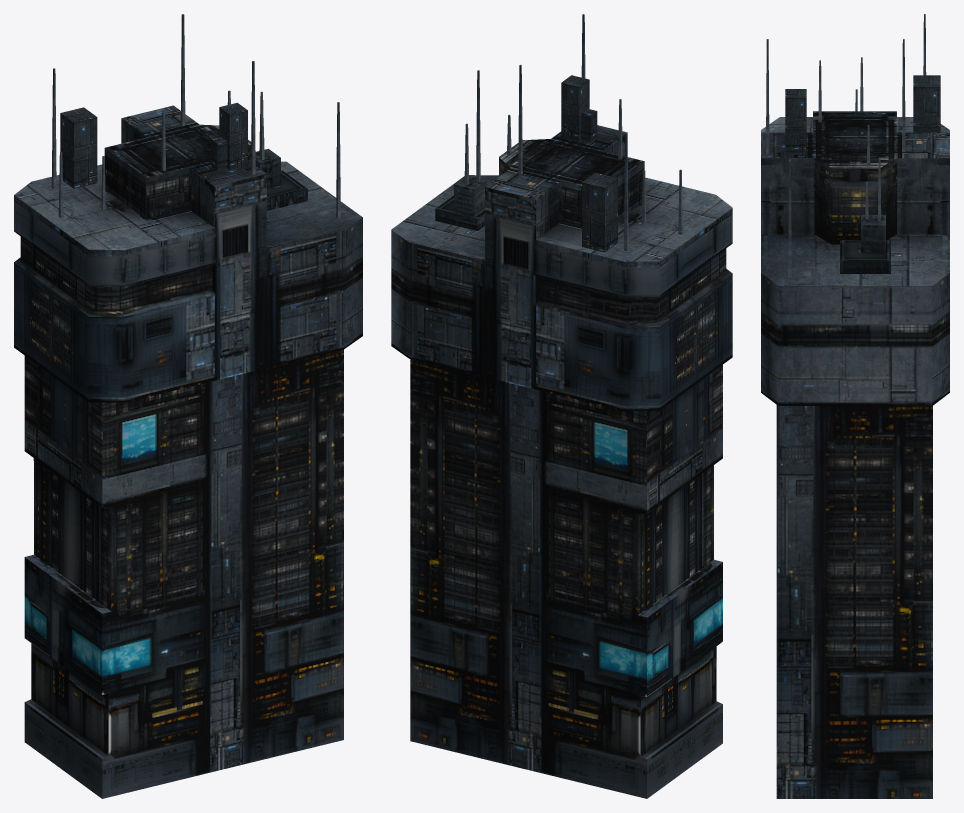
File: CP_Skyscraper_04.fbx
The picture shows the model from 3 angles, left to right: view 1: azimuth 30°, elevation 25°; view 2: azimuth 150°, elevation 25°; view 3: azimuth 270°, elevation 25°; orthographic projection. The views are drawn at different scales.
Parts seen in each view (by area): view 1: CP_Skyscraper_04; view 2: CP_Skyscraper_04; view 3: CP_Skyscraper_04.
Part boxes in pixels (<box>): CP_Skyscraper_04: <box>14,14,362,798</box>; CP_Skyscraper_04: <box>391,14,732,798</box>; CP_Skyscraper_04: <box>761,14,949,798</box>.
Bounding box in the file's own units: 4181 × 10307 × 2474.
